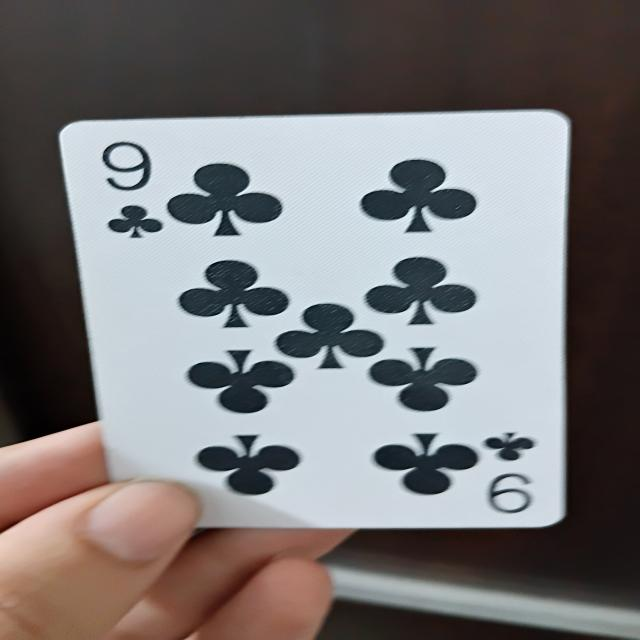9C: (56, 111, 571, 534)
